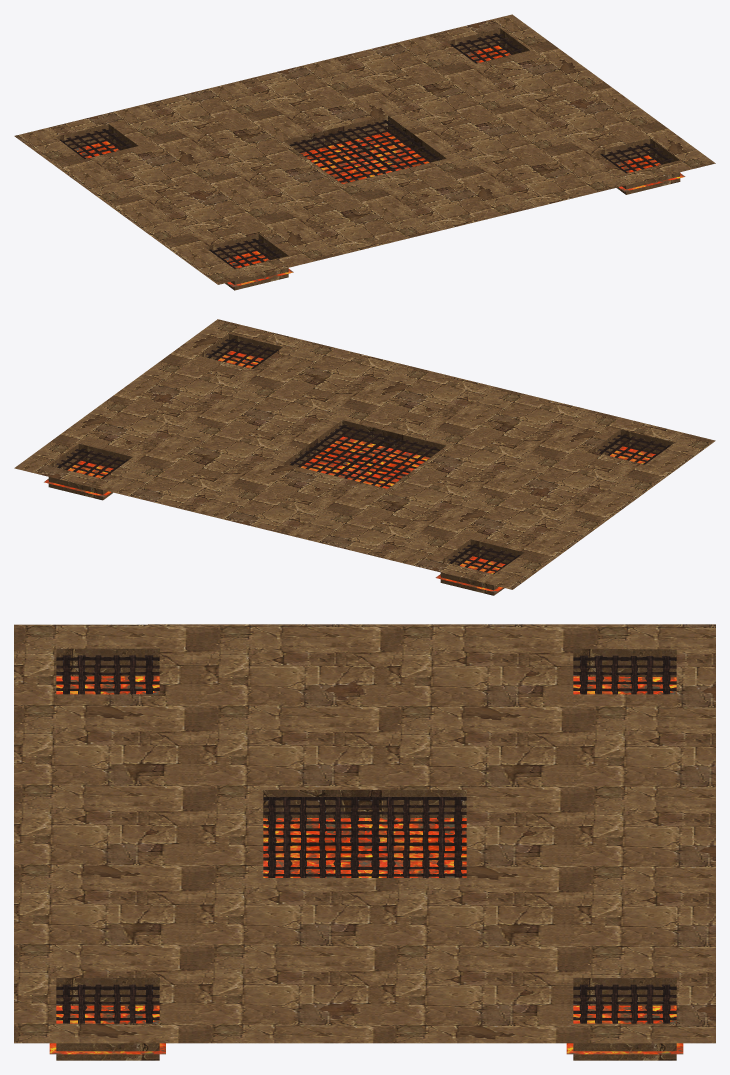
The model's file is Scene_R_dimian_03.FBX.
3 views of the same model, one above another, from view 1: azimuth 30°, elevation 25°; view 2: azimuth 150°, elevation 25°; view 3: azimuth 270°, elevation 25° (orthographic). The views are drawn at different scales.
Parts seen in each view (by area): view 1: Scene_R_dimian_03; view 2: Scene_R_dimian_03; view 3: Scene_R_dimian_03.
Boxes of the visible parts, x1=… form: Scene_R_dimian_03: x1=14, y1=14, x2=715, y2=290; Scene_R_dimian_03: x1=14, y1=319, x2=715, y2=595; Scene_R_dimian_03: x1=14, y1=624, x2=715, y2=1060.
Bounding box in the file's own units: 34.08 × 1.41 × 24.12.
